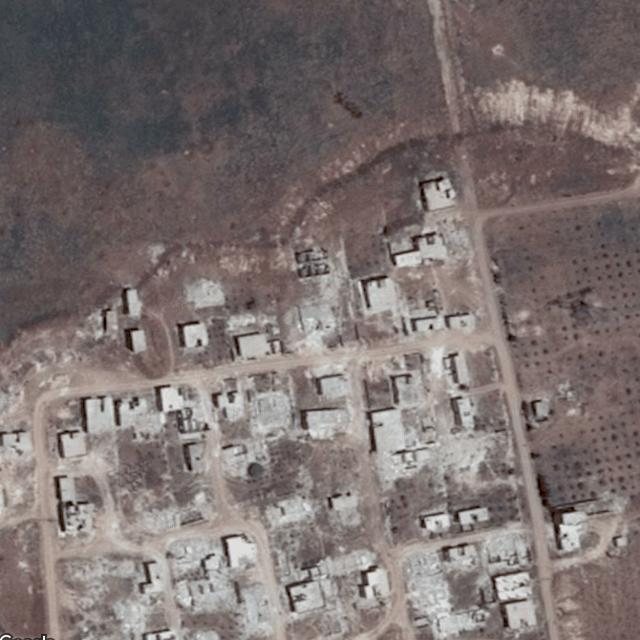damaged_building: (169, 538, 274, 634), (401, 550, 487, 634), (372, 439, 461, 492), (284, 301, 338, 361), (114, 592, 163, 632)
